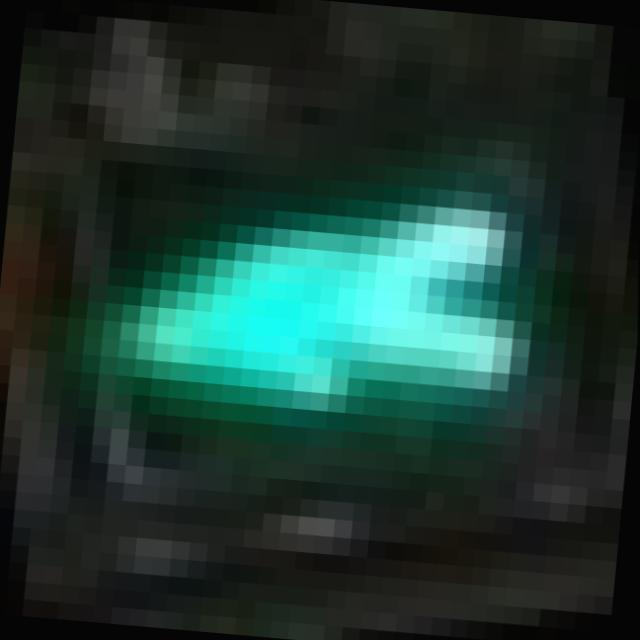green_light: (31, 120, 548, 568)
